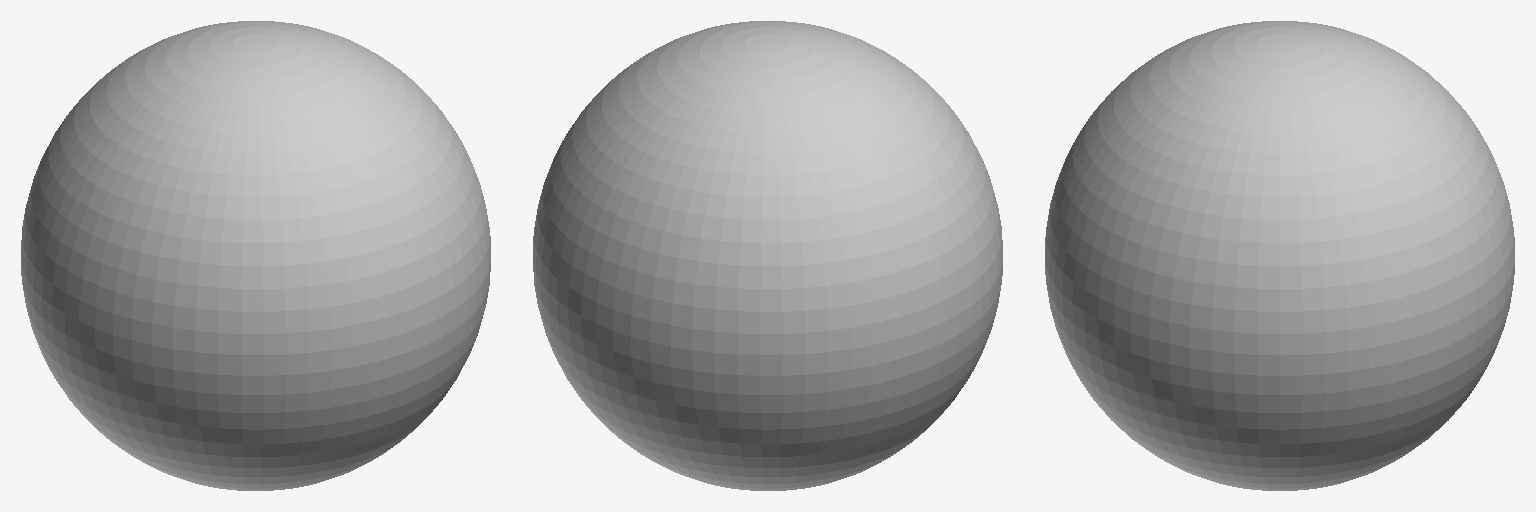
The model's file is uranus.obj.
3 views of the same model, side by side, from view 1: azimuth 30°, elevation 25°; view 2: azimuth 150°, elevation 25°; view 3: azimuth 270°, elevation 25° (orthographic).
Visible parts, largest first — view 1: Esfera_UV; view 2: Esfera_UV; view 3: Esfera_UV.
Part boxes in pixels (x1,y1,x2,y2): Esfera_UV: (21, 21, 490, 490); Esfera_UV: (533, 21, 1002, 490); Esfera_UV: (1045, 21, 1514, 490).
Size of the model in its own units: 8 by 8 by 8.